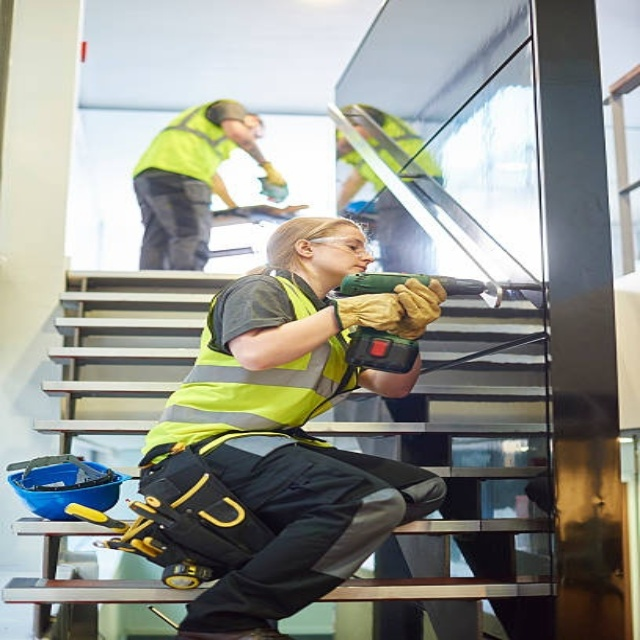Gafas: (307, 236, 372, 256)
Guantes: (394, 272, 449, 334), (329, 293, 398, 335)
Sin_mascara: (347, 261, 372, 271)
